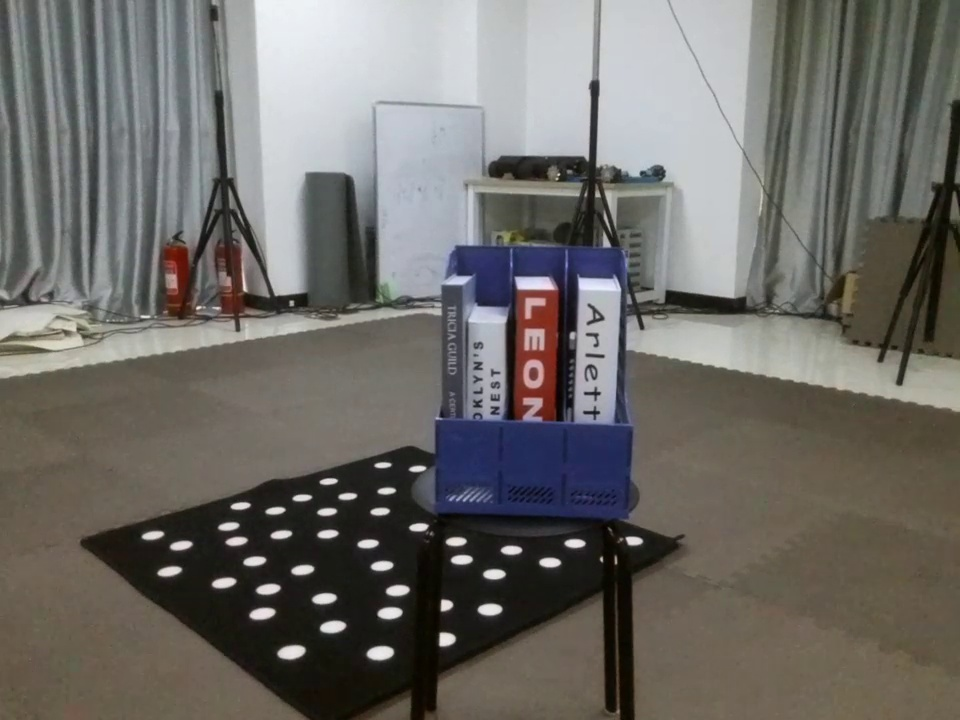files: (425, 232, 650, 527)
